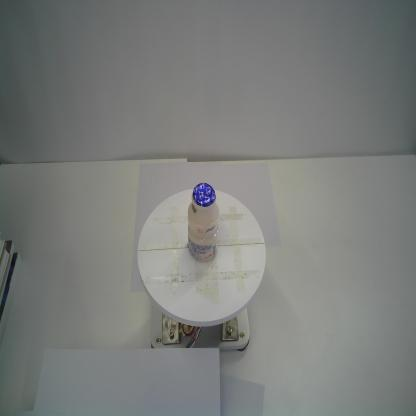Milk: (187, 182, 220, 264)
